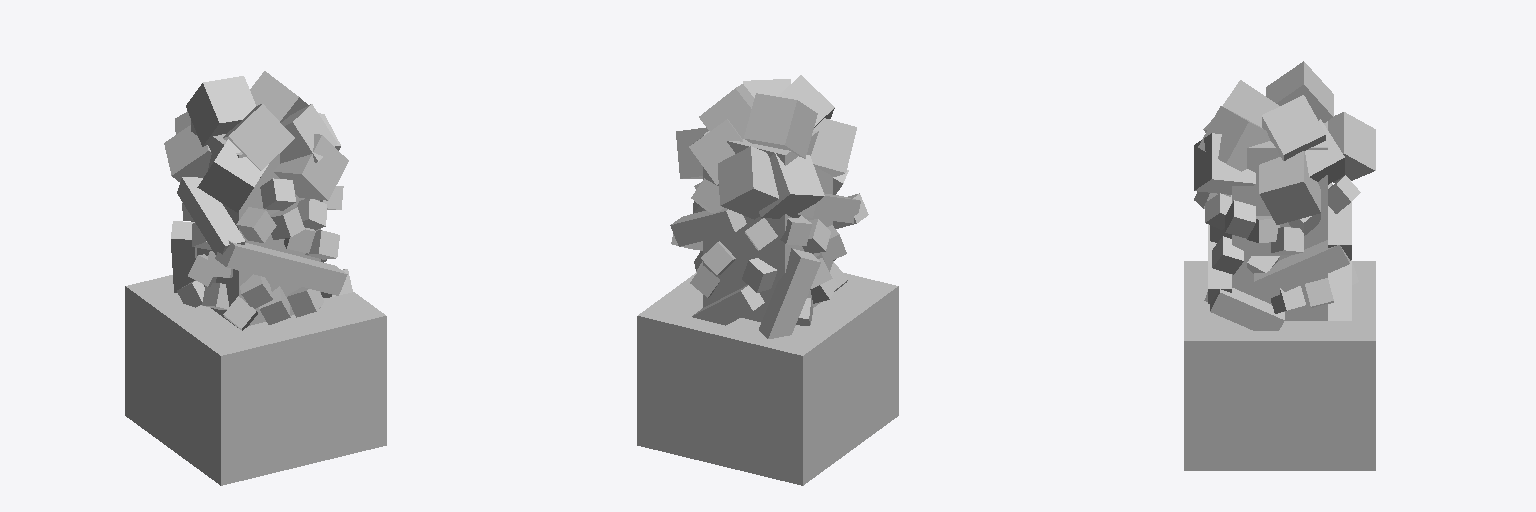
The model's file is yogsothothstatue.obj.
The picture shows the model from 3 angles: view 1: azimuth 30°, elevation 25°; view 2: azimuth 150°, elevation 25°; view 3: azimuth 270°, elevation 25°; orthographic projection.
Visible parts, largest first — view 1: base, tentacle2, blob3, body, blob10, blob9, blob2, tentacle1, blob8, blob4, blob1, tentacle7 (+10 smaller); view 2: base, body, blob3, blob7, tentacle7, blob8, blob9, tentacle4, blob6, blob1, tentacle6, tentacle1 (+10 smaller); view 3: base, body, blob5, tentacle5, blob1, blob7, blob4, blob10, blob3, tentacle3, blob6, blob2 (+11 smaller).
Boxes of the visible parts, <box> form: base: <box>125,275,386,485</box>; tentacle2: <box>215,240,347,295</box>; blob3: <box>186,76,255,146</box>; body: <box>191,121,320,327</box>; blob10: <box>273,134,348,200</box>; blob9: <box>197,139,268,212</box>; blob2: <box>223,104,294,170</box>; tentacle1: <box>177,177,245,254</box>; blob8: <box>164,125,211,181</box>; blob4: <box>280,104,337,163</box>; blob1: <box>250,71,308,122</box>; tentacle7: <box>171,221,196,292</box>; base: <box>637,272,898,485</box>; body: <box>703,119,832,321</box>; blob3: <box>744,93,817,158</box>; blob7: <box>718,146,778,219</box>; tentacle7: <box>759,248,820,338</box>; blob8: <box>759,153,824,218</box>; blob9: <box>811,118,856,176</box>; tentacle4: <box>670,208,746,246</box>; blob6: <box>689,119,742,184</box>; blob1: <box>699,84,754,138</box>; tentacle6: <box>692,285,764,325</box>; tentacle1: <box>798,193,860,223</box>; base: <box>1184,261,1375,470</box>; body: <box>1232,121,1327,320</box>; blob5: <box>1259,151,1320,224</box>; tentacle5: <box>1254,240,1349,300</box>; blob1: <box>1262,95,1325,160</box>; blob7: <box>1328,112,1375,182</box>; blob4: <box>1198,106,1269,171</box>; blob10: <box>1194,133,1255,194</box>; blob3: <box>1266,61,1333,122</box>; tentacle3: <box>1210,288,1284,330</box>; blob6: <box>1305,119,1344,184</box>; blob2: <box>1223,80,1279,127</box>.
Size of the model in its own units: 0.5 by 1.01 by 0.5.